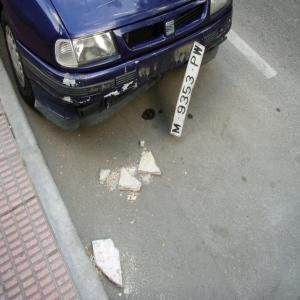Vehicle-registration-plate: (171, 43, 207, 138)
